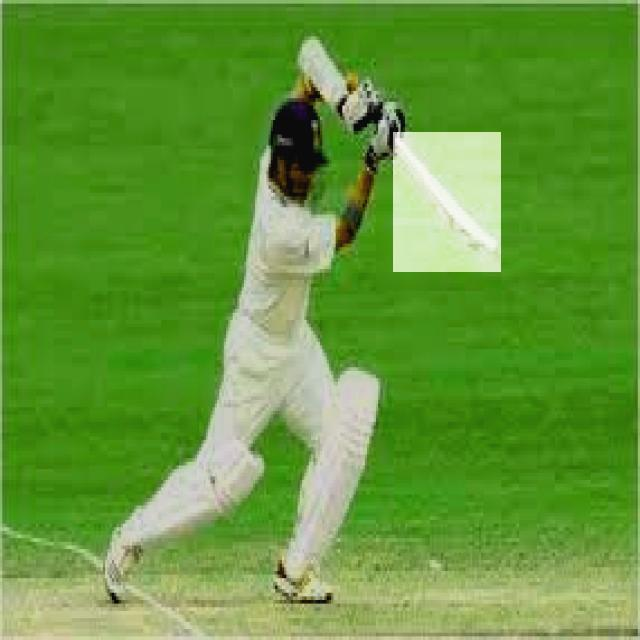bat: (395, 133, 501, 275)
